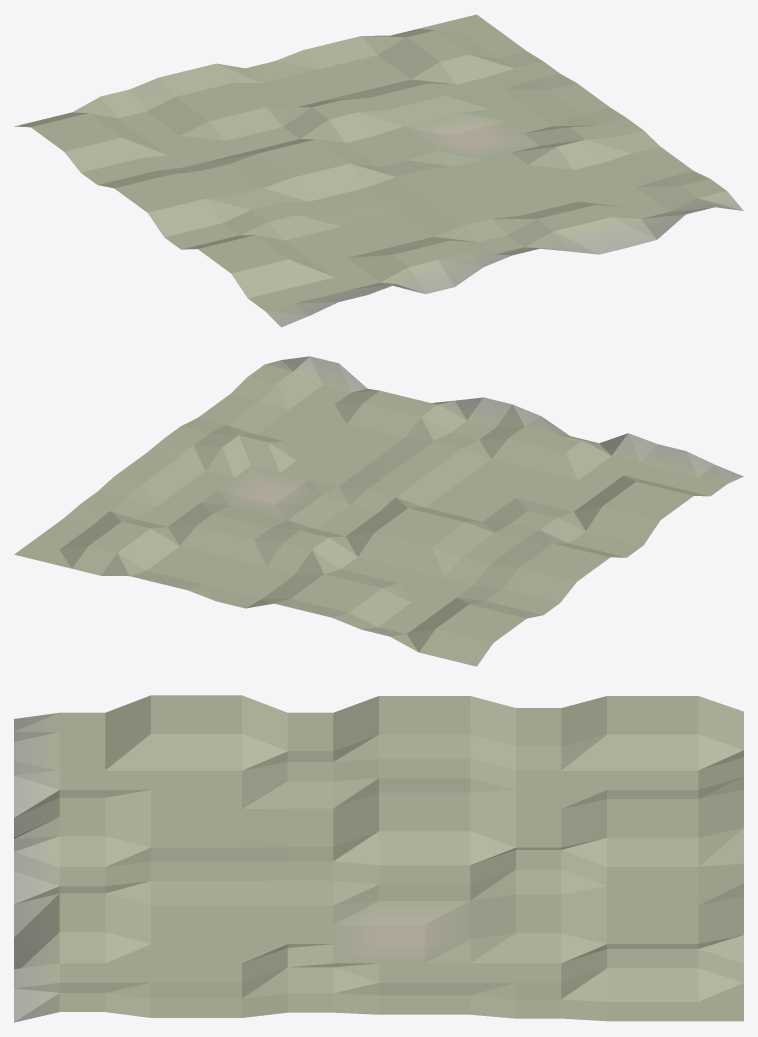
The picture shows the model from 3 angles, top to bottom: view 1: azimuth 30°, elevation 25°; view 2: azimuth 150°, elevation 25°; view 3: azimuth 270°, elevation 25°; orthographic projection. The views are drawn at different scales.
Bounding box in the file's own units: 32 × 1.57 × 32.
